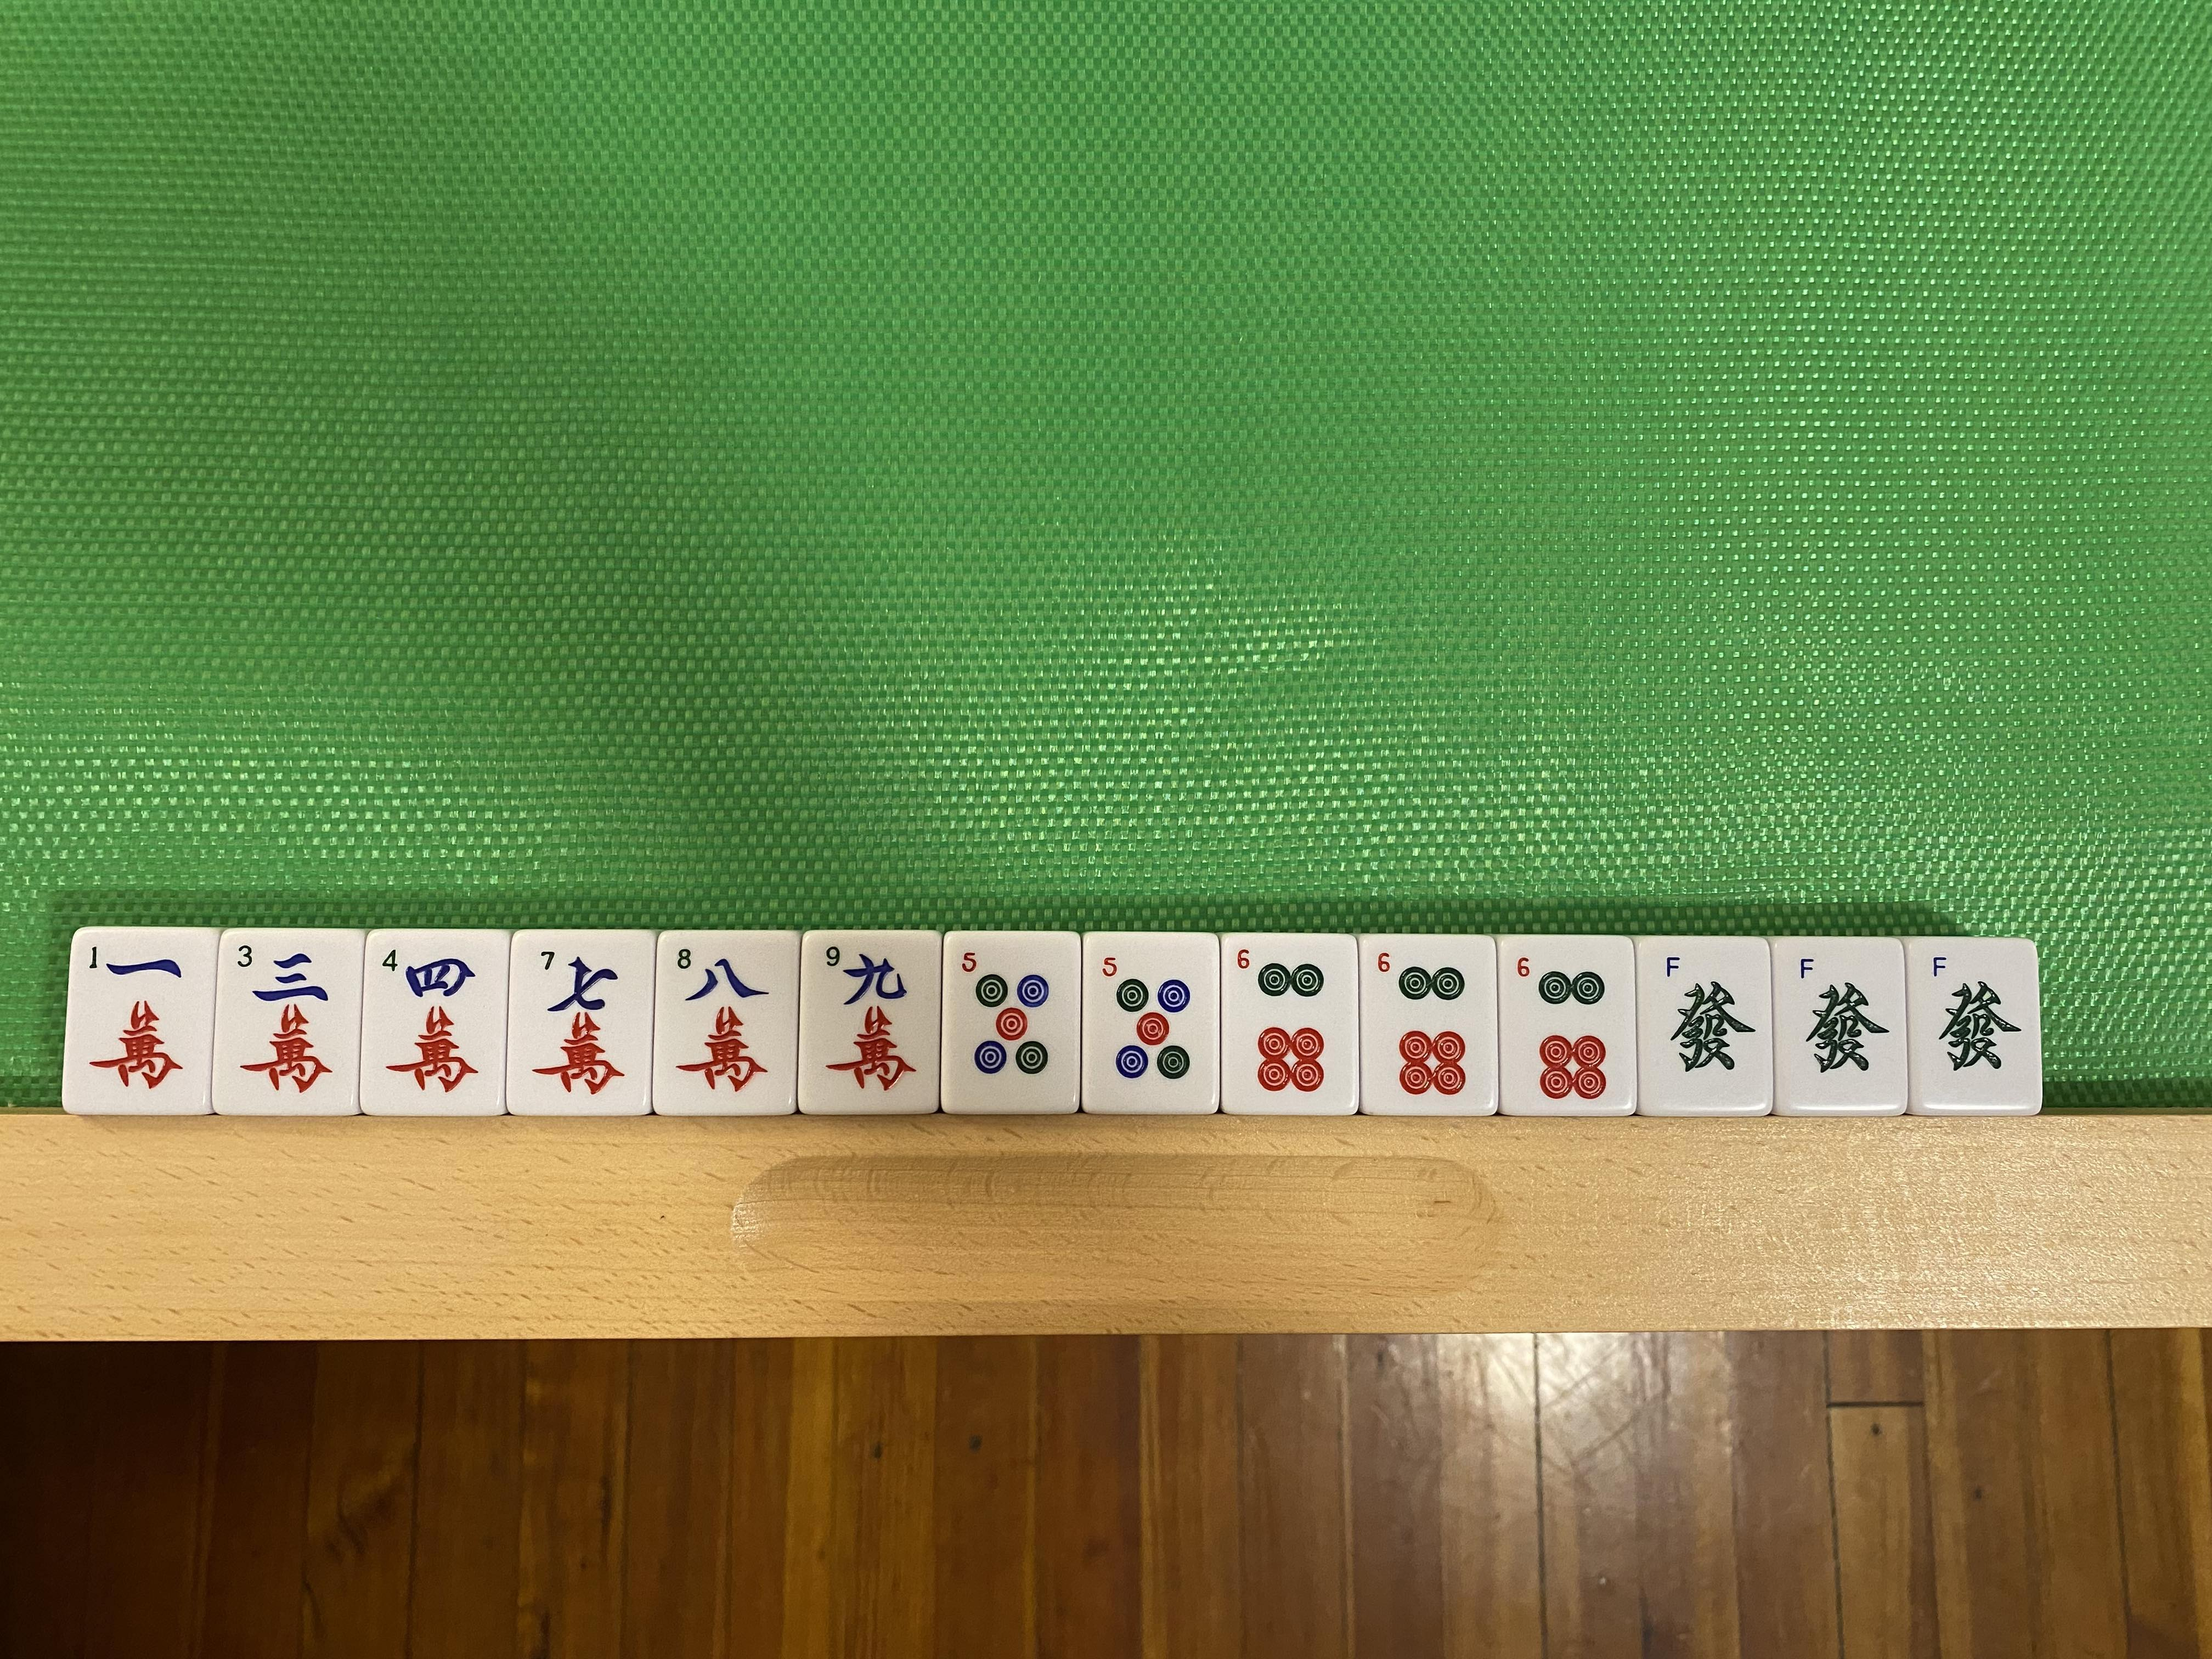character-eight: (657, 938, 794, 1112)
character-four: (364, 934, 502, 1110)
character-nine: (803, 934, 939, 1108)
character-one: (73, 932, 209, 1114)
character-seven: (512, 934, 650, 1112)
character-three: (214, 934, 357, 1108)
circle-five: (941, 936, 1075, 1108), (1089, 936, 1211, 1107)
circle-six: (1230, 939, 1350, 1108), (1369, 943, 1487, 1112), (1508, 943, 1622, 1112)
honor-green_dragon: (1916, 946, 2034, 1110), (1646, 945, 1763, 1108), (1782, 948, 1897, 1108)
